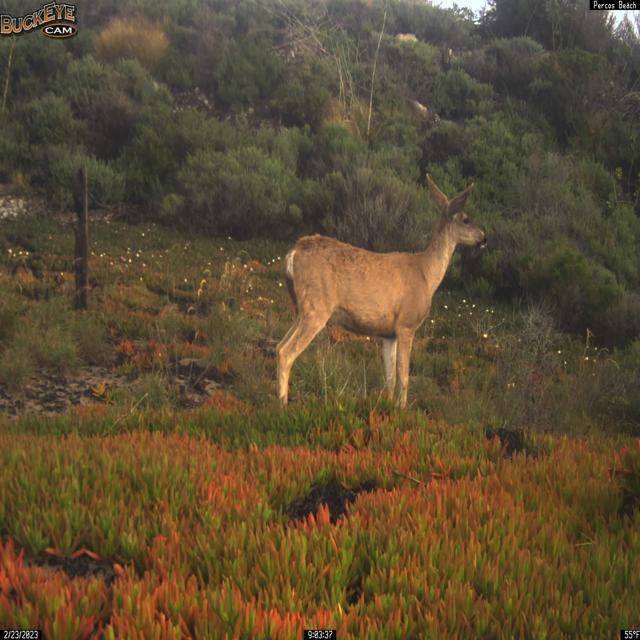deer: (274, 172, 489, 412)
